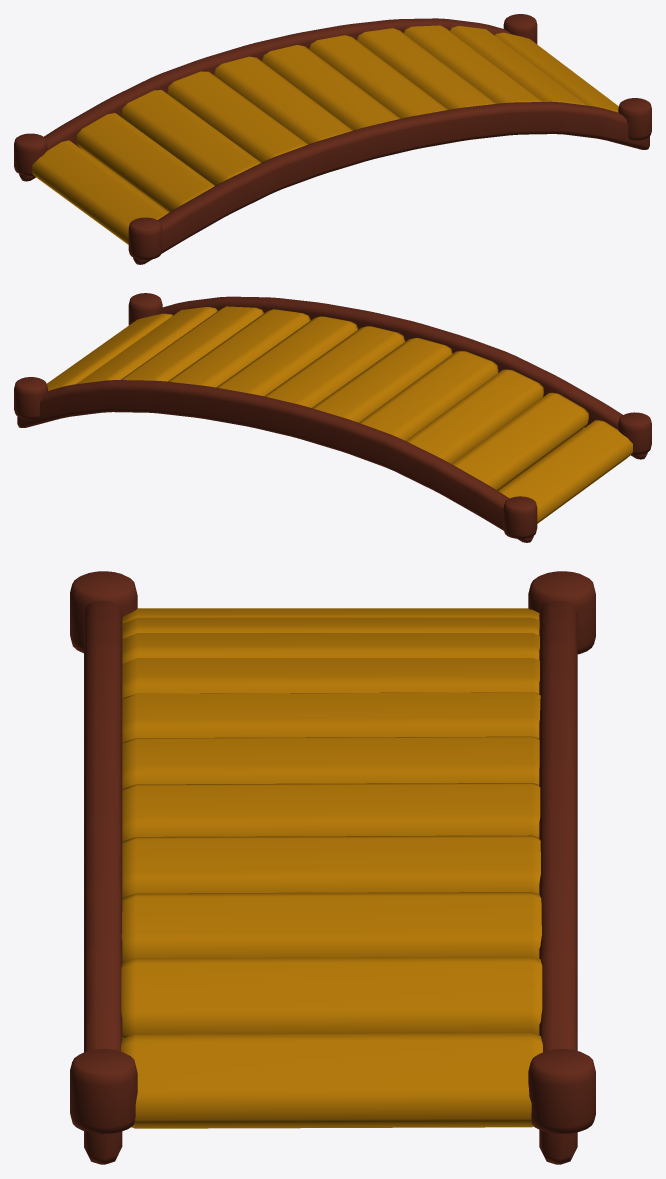
The model's file is BridgeRiver.fbx.
The picture shows the model from 3 angles, top to bottom: view 1: azimuth 30°, elevation 25°; view 2: azimuth 150°, elevation 25°; view 3: azimuth 270°, elevation 25°; orthographic projection. The views are drawn at different scales.
Visible parts, largest first — view 1: BridgeRiver2, BridgeRiver1, BridgeRiver3, BridgeRiver4, BridgeRiver7, BridgeRiver5, BridgeRiver6; view 2: BridgeRiver2, BridgeRiver3, BridgeRiver1, BridgeRiver5, BridgeRiver6, BridgeRiver4, BridgeRiver7; view 3: BridgeRiver2, BridgeRiver1, BridgeRiver3, BridgeRiver7, BridgeRiver6, BridgeRiver5, BridgeRiver4.
Part boxes in pixels (left/top/right/bottom): BridgeRiver2: left=32, top=25, right=618, bottom=244; BridgeRiver1: left=133, top=101, right=649, bottom=264; BridgeRiver3: left=19, top=18, right=510, bottom=181; BridgeRiver4: left=128, top=217, right=162, bottom=259; BridgeRiver7: left=618, top=98, right=651, bottom=140; BridgeRiver5: left=14, top=133, right=47, bottom=175; BridgeRiver6: left=503, top=14, right=537, bottom=44; BridgeRiver2: left=47, top=306, right=632, bottom=523; BridgeRiver3: left=17, top=380, right=533, bottom=542; BridgeRiver1: left=154, top=296, right=647, bottom=459; BridgeRiver5: left=503, top=496, right=537, bottom=538; BridgeRiver6: left=14, top=377, right=47, bottom=419; BridgeRiver4: left=618, top=412, right=651, bottom=454; BridgeRiver7: left=128, top=293, right=162, bottom=325; BridgeRiver2: left=121, top=608, right=542, bottom=1128; BridgeRiver1: left=84, top=601, right=122, bottom=1164; BridgeRiver3: left=539, top=601, right=577, bottom=1164; BridgeRiver7: left=70, top=1049, right=137, bottom=1133; BridgeRiver6: left=528, top=1049, right=595, bottom=1133; BridgeRiver5: left=528, top=571, right=595, bottom=654; BridgeRiver4: left=70, top=571, right=137, bottom=653.
Size of what is drawn, in the model's own units: 7.07 by 1.14 by 3.11.
